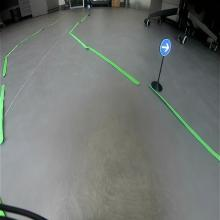right: (160, 38, 172, 57)
